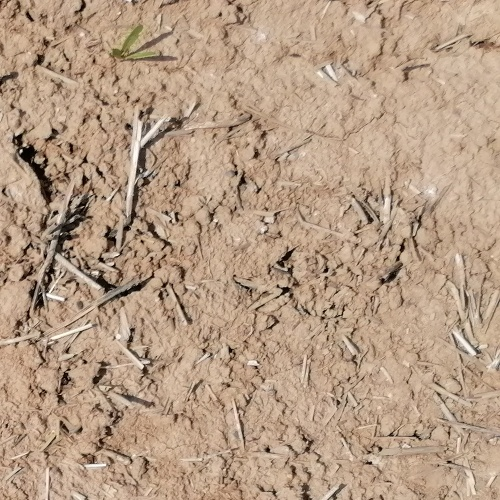beet: (107, 24, 159, 60)
